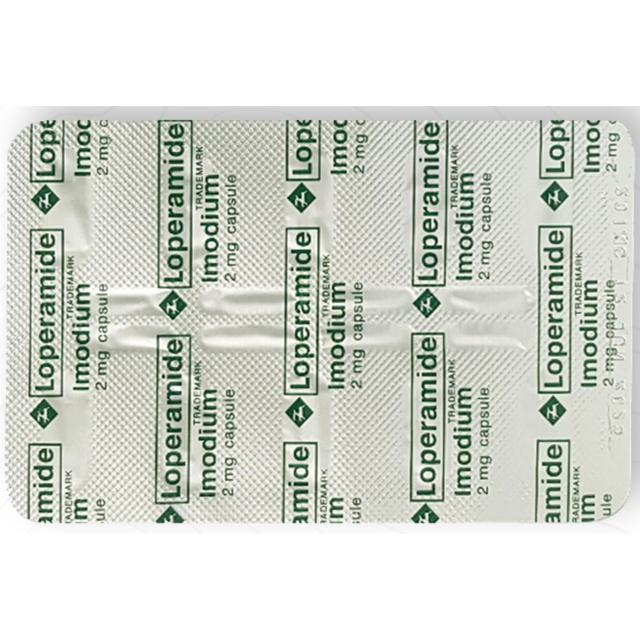blister: (2, 110, 636, 521)
